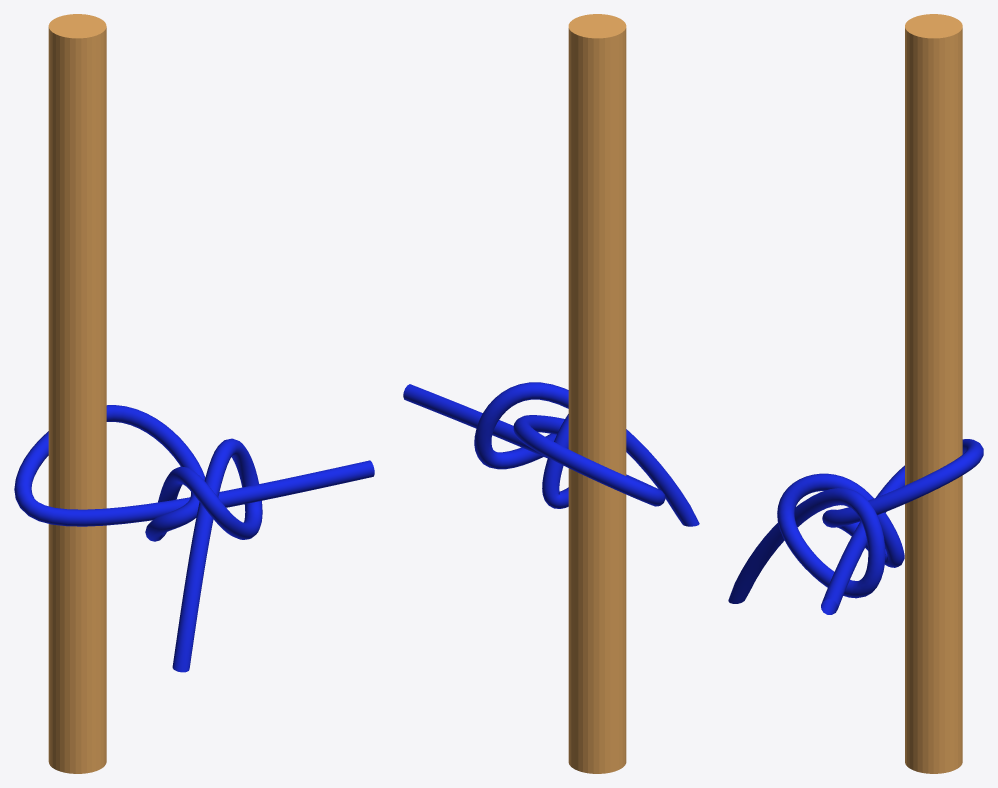
File: TwoHalfHitchState6.dae
The picture shows the model from 3 angles, left to right: view 1: azimuth 30°, elevation 25°; view 2: azimuth 150°, elevation 25°; view 3: azimuth 270°, elevation 25°; orthographic projection.
Visible parts, largest first — view 1: Cylinder, NurbsCurve.001; view 2: Cylinder, NurbsCurve.001; view 3: Cylinder, NurbsCurve.001.
Part boxes in pixels (bbox=[...]): Cylinder: bbox=[48, 14, 106, 773]; NurbsCurve.001: bbox=[14, 405, 374, 672]; Cylinder: bbox=[568, 14, 626, 773]; NurbsCurve.001: bbox=[403, 382, 699, 526]; Cylinder: bbox=[905, 14, 962, 773]; NurbsCurve.001: bbox=[728, 439, 983, 614].
Bounding box in the file's own units: 0.6049 × 0.4408 × 1.4.
